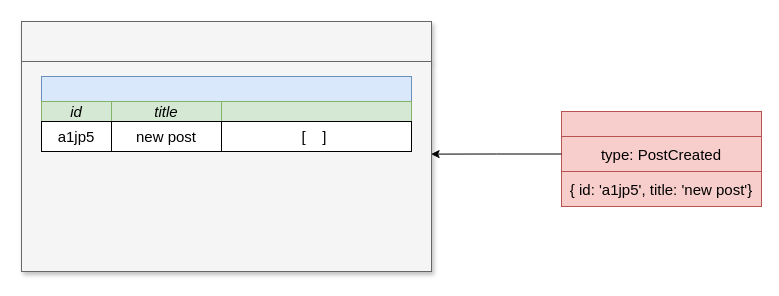
This 779x296 diagram has some shape labels left out. Each missing label, with the centre of its shape:
comments: [316,111]
Event: [661,123]
Posts: [226,89]
Query Service: [227,42]
